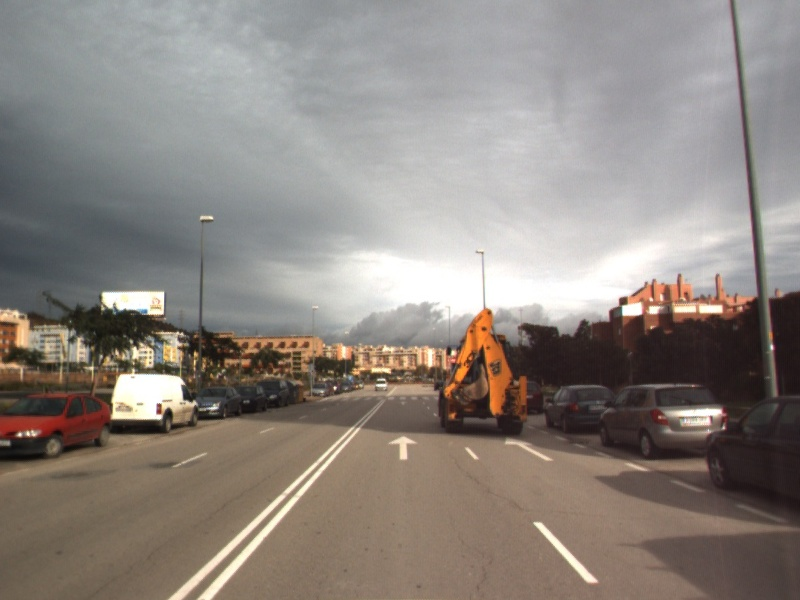STRAIGHT: (502, 434, 556, 463), (387, 434, 420, 461)
